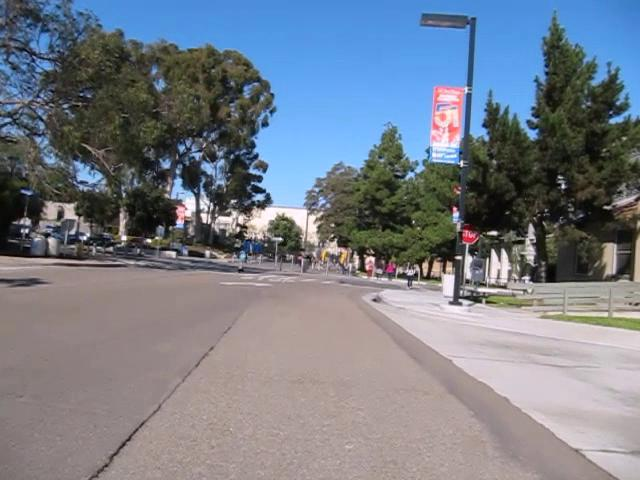stop: (458, 222, 480, 245)
